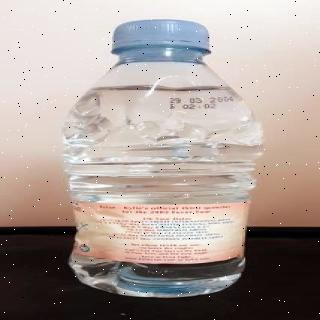Plastic-bottle: (54, 16, 273, 304)
